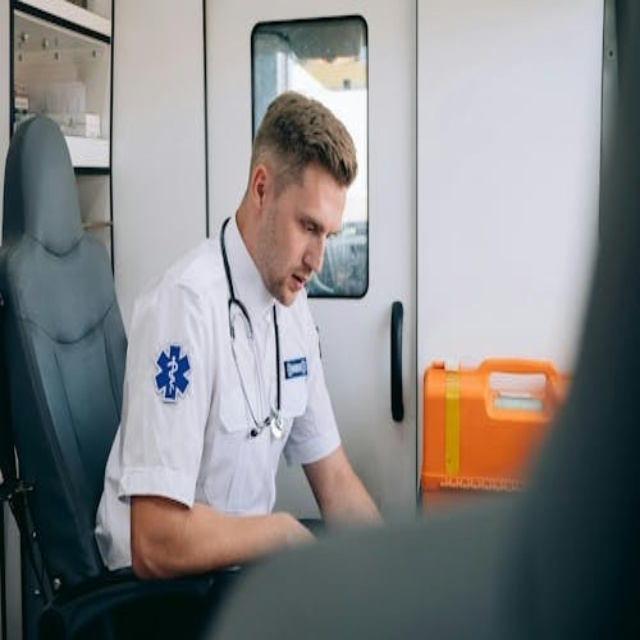Sin_gafas: (291, 198, 342, 246)
Sin_mascara: (271, 254, 314, 306)
